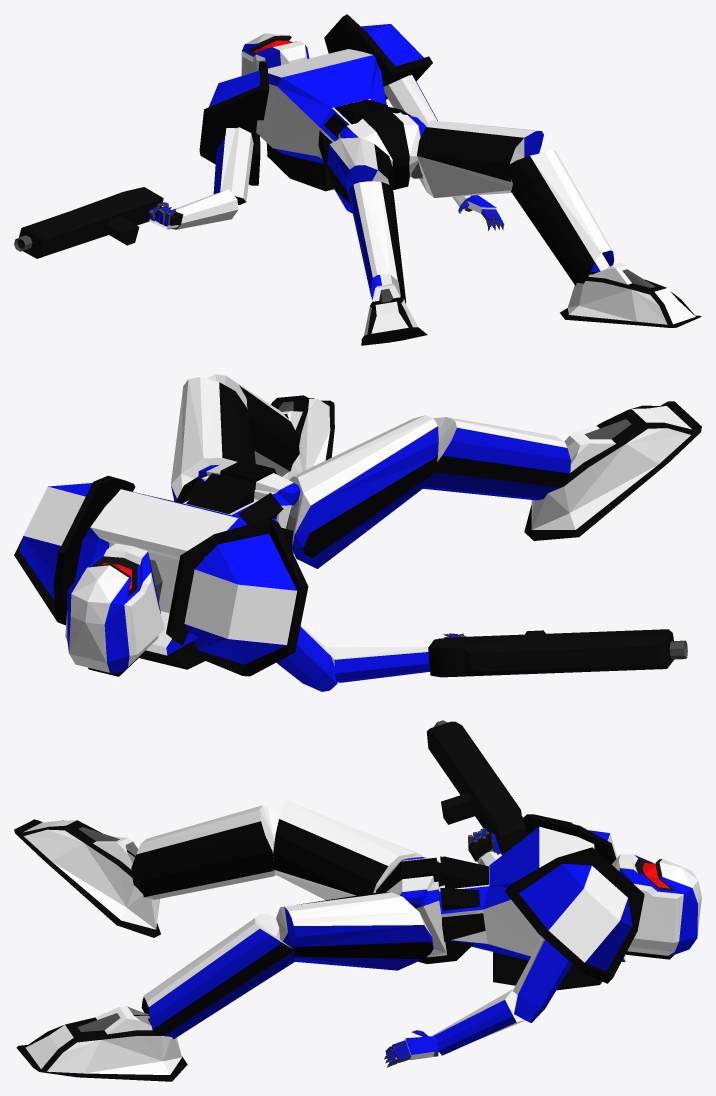
File: robots_000033.obj
The picture shows the model from 3 angles, top to bottom: view 1: azimuth 30°, elevation 25°; view 2: azimuth 150°, elevation 25°; view 3: azimuth 270°, elevation 25°; orthographic projection. The views are drawn at different scales.
Visible parts, largest first — view 1: Chest_plate_Cube.004, R_Thigh.002_Cube.027, R_Shin.002_Cube.029, R_Foot.002_Cube.035, Cube_Cube.001, R_Shin_Cube.007, Cube.002_Cube.059, Cube_Cube.021, Pelvis_Cube.006, R_Thigh_Cube.005, R_Foot_Cube, R_Arm_Cube.002 (+3 smaller); view 2: Cube.002_Cube.059, R_Thigh_Cube.005, Chest_plate_Cube.004, R_Foot_Cube, Cube_Cube.001, Head_base_Cube.022, R_Shin_Cube.007, Cube_Cube.021, R_Thigh.002_Cube.027, R_Shin.002_Cube.029, R_Foot.002_Cube.035, R_Forearm_Cube.008 (+2 smaller); view 3: Cube_Cube.021, Chest_plate_Cube.004, R_Thigh.002_Cube.027, R_Shin_Cube.007, R_Shin.002_Cube.029, R_Thigh_Cube.005, R_Foot.002_Cube.035, R_Foot_Cube, Cube_Cube.001, Head_base_Cube.022, Pelvis_Cube.006, L_Arm_Cube.014 (+3 smaller).
Boxes of the visible parts, bbox=[...] form: Chest_plate_Cube.004: bbox=[256, 49, 410, 191]; R_Thigh.002_Cube.027: bbox=[417, 120, 543, 197]; R_Shin.002_Cube.029: bbox=[507, 150, 614, 285]; R_Foot.002_Cube.035: bbox=[560, 263, 701, 327]; Cube_Cube.001: bbox=[14, 187, 183, 258]; R_Shin_Cube.007: bbox=[348, 181, 406, 303]; Cube.002_Cube.059: bbox=[199, 61, 269, 185]; Cube_Cube.021: bbox=[324, 14, 432, 99]; Pelvis_Cube.006: bbox=[338, 108, 426, 190]; R_Thigh_Cube.005: bbox=[327, 137, 393, 213]; R_Foot_Cube: bbox=[361, 284, 427, 345]; R_Arm_Cube.002: bbox=[213, 127, 253, 204]; Cube.002_Cube.059: bbox=[166, 520, 308, 676]; R_Thigh_Cube.005: bbox=[289, 415, 438, 568]; Chest_plate_Cube.004: bbox=[74, 473, 293, 669]; R_Foot_Cube: bbox=[524, 401, 701, 540]; Cube_Cube.001: bbox=[428, 629, 687, 677]; Head_base_Cube.022: bbox=[65, 543, 164, 676]; R_Shin_Cube.007: bbox=[423, 417, 570, 500]; Cube_Cube.021: bbox=[14, 475, 135, 625]; R_Thigh.002_Cube.027: bbox=[171, 377, 255, 501]; R_Shin.002_Cube.029: bbox=[207, 374, 299, 476]; R_Foot.002_Cube.035: bbox=[271, 395, 334, 479]; R_Forearm_Cube.008: bbox=[324, 646, 430, 682]; Cube_Cube.021: bbox=[505, 847, 644, 983]; Chest_plate_Cube.004: bbox=[439, 826, 625, 990]; R_Thigh.002_Cube.027: bbox=[276, 892, 433, 970]; R_Shin_Cube.007: bbox=[131, 805, 279, 899]; R_Shin.002_Cube.029: bbox=[141, 914, 294, 1038]; R_Thigh_Cube.005: bbox=[271, 800, 422, 900]; R_Foot.002_Cube.035: bbox=[16, 1006, 187, 1081]; R_Foot_Cube: bbox=[14, 819, 160, 937]; Cube_Cube.001: bbox=[426, 720, 527, 861]; Head_base_Cube.022: bbox=[612, 854, 701, 959]; Pelvis_Cube.006: bbox=[376, 857, 473, 964]; L_Arm_Cube.014: bbox=[513, 937, 571, 1022].
Bounding box in the file's own units: 3.09 × 1.01 × 3.26.
